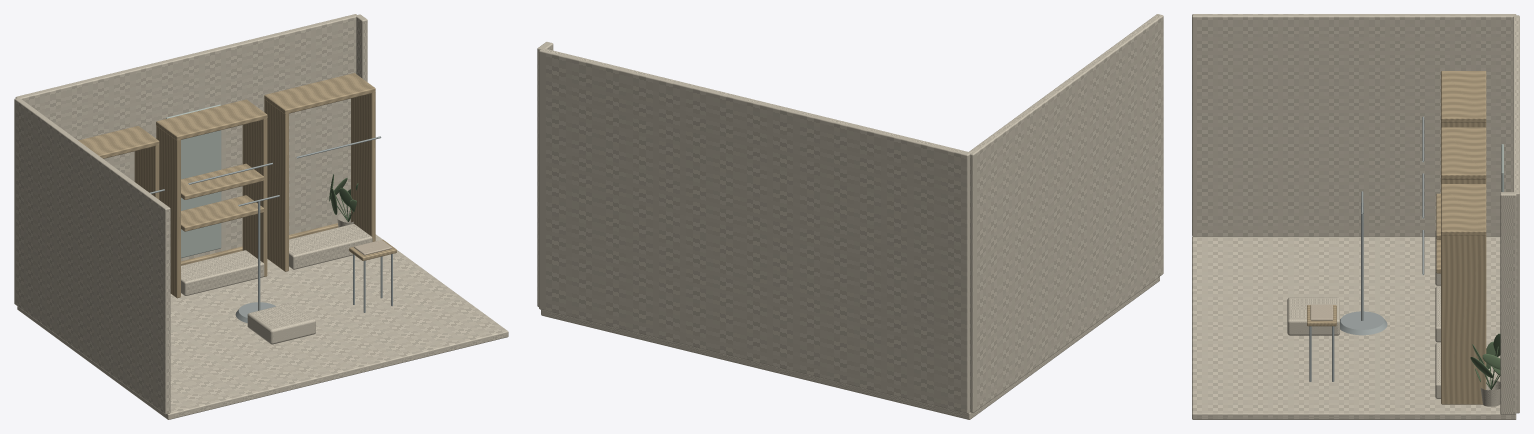
Rendered from room.glb.
3 views of the same model, side by side, from view 1: azimuth 30°, elevation 25°; view 2: azimuth 150°, elevation 25°; view 3: azimuth 270°, elevation 25° (orthographic). The views are drawn at different scales.
Visible parts, largest first — view 1: limestone, ash_grain, mirror_approximation, brushed_steel, leaf; view 2: limestone; view 3: limestone, ash_grain, brushed_steel, leaf, fabric_linen.
Boxes of the visible parts, x1,y1,x2,y2 form: limestone: (14,14,508,419); ash_grain: (78,73,396,298); mirror_approximation: (166,104,221,258); brushed_steel: (150,136,392,322); leaf: (329,174,358,221); limestone: (537,14,1163,419); limestone: (1192,14,1519,419); ash_grain: (1307,71,1486,404); brushed_steel: (1309,116,1424,381); leaf: (1470,333,1500,389); fabric_linen: (1310,304,1333,320).
Bounding box in the file's own units: 5.29 × 3.09 × 4.04.
Materials: 6 (3 with a texture image).
